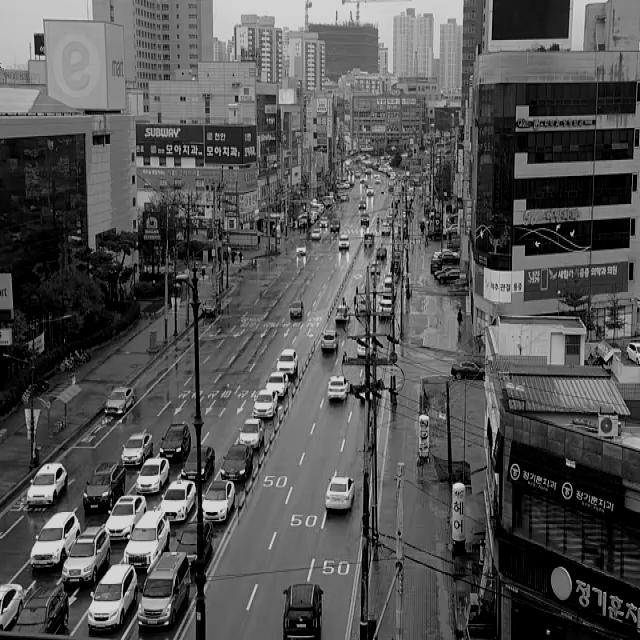Car: (138, 552, 191, 630), (88, 565, 137, 631), (11, 582, 69, 634), (31, 512, 80, 570), (62, 527, 110, 584), (124, 511, 170, 569), (283, 583, 323, 640), (83, 463, 126, 512), (106, 494, 147, 540), (176, 522, 213, 569), (27, 463, 67, 506), (160, 480, 196, 523), (202, 480, 235, 522), (181, 445, 215, 482), (136, 457, 170, 494), (220, 444, 253, 482), (160, 423, 191, 461), (325, 476, 355, 514), (0, 584, 24, 631), (121, 433, 152, 467), (105, 387, 133, 415), (240, 419, 265, 449), (254, 391, 277, 418), (265, 372, 288, 398), (277, 349, 298, 377), (451, 362, 485, 379), (328, 376, 348, 401), (320, 331, 340, 351), (434, 249, 460, 263), (437, 269, 460, 284), (202, 298, 221, 316), (382, 277, 397, 299), (357, 338, 373, 358), (378, 300, 394, 319), (334, 305, 351, 322), (627, 343, 640, 364), (289, 301, 304, 319), (434, 267, 456, 279), (431, 259, 442, 273), (339, 235, 349, 250), (371, 261, 380, 276), (376, 247, 387, 259), (360, 213, 370, 226), (330, 219, 340, 232), (364, 233, 374, 246), (382, 224, 391, 236), (312, 229, 321, 241), (296, 246, 306, 256), (320, 217, 329, 228), (398, 222, 406, 233), (340, 194, 350, 202), (358, 201, 366, 210), (367, 187, 374, 196)
